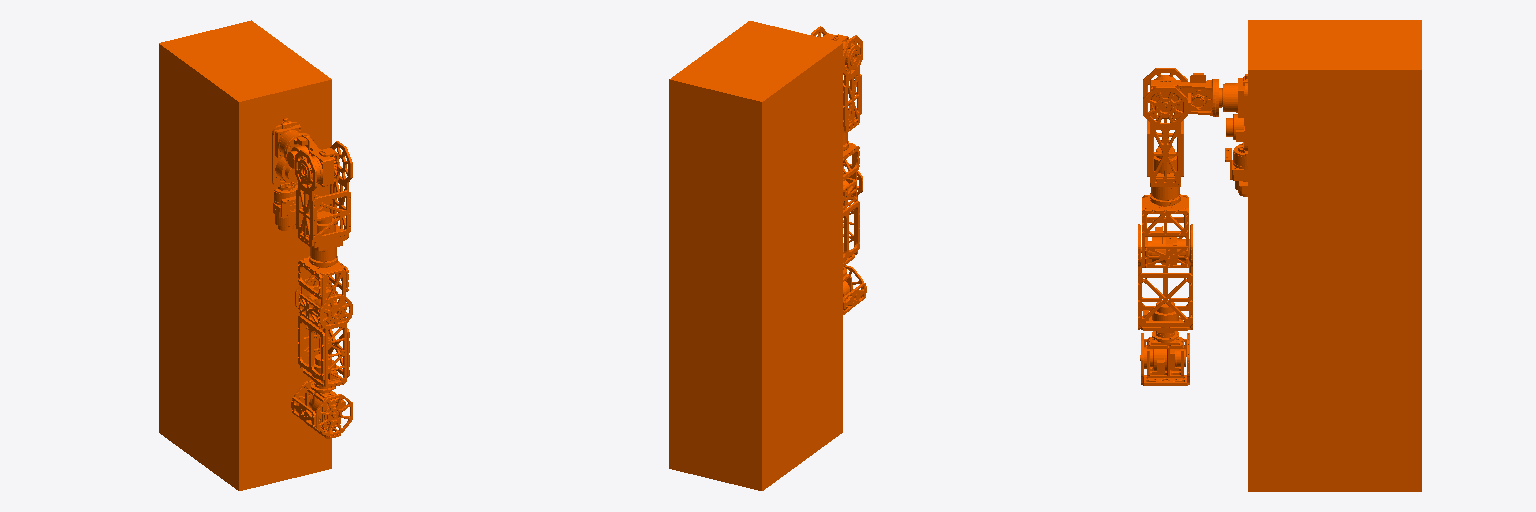
URDF robot description (Home):
<?xml version="1.0"?>
<robot name="Home">
	<link name="base_link">
		<visual>
			<geometry>
				<box size="0.2 0.3 0.8"/>
			</geometry>
			<material name="abb_orange">
				<color rgba="1 0.43 0 1"/>
		      	</material>
			<origin xyz="0 0 0.4" />
		</visual>
	</link>

	<joint name="NeckYaw" type="continuous">
		<parent link="base_link" />
		<child link="Neck" />
		<!--<limit effort="120.0" lower="-2.2" upper="1.5708" velocity="13.0"/>-->
		<axis xyz="0 0 1"/>
		<origin xyz="0 -0.15 0.7"/>
	</joint>

	<link name="Neck">
 		<visual>
		      <geometry>
						<mesh filename="package:/[local-path]/Neck.STL" />
		      </geometry>
		      <material name="abb_orange" />
		      <origin rpy="0 0 0" xyz="0 0 0"/>
    		</visual>
	</link>

	<joint name="ShoulderPitch" type="continuous">
		<parent link="Neck" />
		<child link="Shoulder" />
		<!--<limit effort="150.0" lower="-2.3213" upper="0.2618" velocity="18.0"/>-->
		<axis xyz="0 1 0"/>
		<origin xyz="0 -0.044 0"/>
	</joint>

	<link name="Shoulder">
		<visual>
		      <geometry>
						<mesh filename="package:/[local-path]/Shoulder.STL" />
		      </geometry>
		      <material name="abb_orange" />
			<origin rpy="0 0 0" xyz="0 0 0"/>
    		</visual>
	</link>
	
	<joint name="ShoulderRoll" type="continuous">
		<parent link="Shoulder" />
		<child link="UpperArm1" />
		<!--<limit effort="200.0" lower="-3.1416" upper="1.5708" velocity="12.0"/>-->
		<axis xyz="1 0 0"/>
		<origin xyz="0 -0.0975 0"/>
	</joint>

	<link name="UpperArm1">
		<visual>
		      <geometry>
						<mesh filename="package:/[local-path]/UpperArm1.STL" />
		      </geometry>
		      <material name="abb_orange" />
			<origin rpy="0 0 0" xyz="0 0 0"/>
    		</visual>
	</link>

	<joint name="ElbowYaw" type="continuous">
		<parent link="UpperArm1" />
		<child link="UpperArm2" />
		<!--<limit effort="100.0" lower="-1.0472" upper="2.0944" velocity="20.0"/>-->
		<axis xyz="0 0 1"/>
		<origin xyz="0 0 -0.1845"/>
	</joint>
	
	<link name="UpperArm2">
		<visual>
			<geometry>
				<mesh filename="package:/[local-path]/UpperArm2.STL" />
			</geometry>
			<material name="abb_orange" />
			<origin rpy="0 0 0" xyz="0 0 0"/>
    		</visual>
	</link>

	<joint name="ElbowPitch" type="continuous">
		<parent link="UpperArm2" />
		<child link="LowerArm1" />
		<!--<limit effort="80.0" lower="-3.1416" upper="3.1416" velocity="11.0"/>-->
		<axis xyz="0 1 0"/>
		<origin xyz="0 0 -0.0965"/>
	</joint>

	<link name="LowerArm1">
		<visual>
		      <geometry>
				  <mesh filename="package:/[local-path]/LowerArm1.STL" />
		      </geometry>
		      <material name="abb_orange" />
			<origin rpy="0 0 0" xyz="0 0 0"/>
    		</visual>
	</link>
	
	<joint name="WristYaw" type="continuous">
		<parent link="LowerArm1" />
		<child link="LowerArm2" />
		<!--<limit effort="150.0" lower="-1.3962" upper="1.3962" velocity="10.0"/>-->
		<axis xyz="0 0 1"/>
		<origin xyz="0 0 -0.1775"/>
	</joint>

	<link name="LowerArm2">
		<visual>
		      <geometry>
				<mesh filename="package:/[local-path]/LowerArm2.STL" />
		      </geometry>
		      <material name="abb_orange" />
			  <origin rpy="0 0 0" xyz="0 0 0"/>
    		</visual>
	</link>

	<joint name="WristPitch" type="continuous">
		<parent link="LowerArm2" />
		<child link="LowerArm3" />
		<!--<limit effort="30.0" lower="-0.7330" upper="1.4822" velocity="4.5"/>-->
		<axis xyz="0 1 0"/>
		<origin xyz="0 0 -0.03507"/>
	</joint>

	<link name="LowerArm3">
		<visual>
		      <geometry>
						<mesh filename="package:/[local-path]/LowerArm3.STL" />
		      </geometry>
		     <material name="abb_orange" />
			<origin rpy="0 0 0" xyz="0 0 0"/>
    		</visual>
	</link>

	<joint name="last" type="fixed">
		<parent link="LowerArm3" />
		<child link="tool0" />
		<origin xyz="0 0 -0.04493"/>
	</joint>

	<link name="tool0">
	</link>
</robot>

--- Render facts (derived) ---
3 views of the same robot in one strip: view 1: azimuth 30°, elevation 25°; view 2: azimuth 150°, elevation 25°; view 3: azimuth 270°, elevation 25° (orthographic).
Robot: Home — 9 links, 8 joints (7 continuous, 1 fixed); root link base_link; default pose: all joints at 0.
Visible links, largest first — view 1: base_link, UpperArm1, LowerArm1, UpperArm2, Neck, Shoulder, LowerArm3, LowerArm2; view 2: base_link, UpperArm1, LowerArm1, UpperArm2, LowerArm3; view 3: base_link, UpperArm1, LowerArm1, UpperArm2, Neck, Shoulder, LowerArm2, LowerArm3.
Link boxes in pixels (left/top/right/bottom): base_link: left=159, top=20, right=331, bottom=490; UpperArm1: left=293, top=141, right=352, bottom=261; LowerArm1: left=295, top=277, right=352, bottom=393; UpperArm2: left=298, top=256, right=348, bottom=328; Neck: left=272, top=118, right=303, bottom=230; Shoulder: left=284, top=133, right=338, bottom=186; LowerArm3: left=291, top=380, right=352, bottom=438; LowerArm2: left=305, top=388, right=345, bottom=429; base_link: left=669, top=21, right=842, bottom=490; UpperArm1: left=811, top=26, right=862, bottom=144; LowerArm1: left=843, top=163, right=862, bottom=275; UpperArm2: left=843, top=141, right=859, bottom=209; LowerArm3: left=843, top=265, right=866, bottom=314; base_link: left=1248, top=20, right=1421, bottom=491; UpperArm1: left=1143, top=68, right=1190, bottom=199; LowerArm1: left=1138, top=224, right=1192, bottom=342; UpperArm2: left=1141, top=193, right=1189, bottom=267; Neck: left=1222, top=74, right=1247, bottom=196; Shoulder: left=1150, top=73, right=1221, bottom=118; LowerArm2: left=1140, top=337, right=1185, bottom=377; LowerArm3: left=1141, top=333, right=1189, bottom=385.
Bounding box of the posed robot: 0.2 × 0.4893 × 0.8 m (x, y, z).
7 mesh visuals loaded from 7 distinct referenced files (7 binary STL).